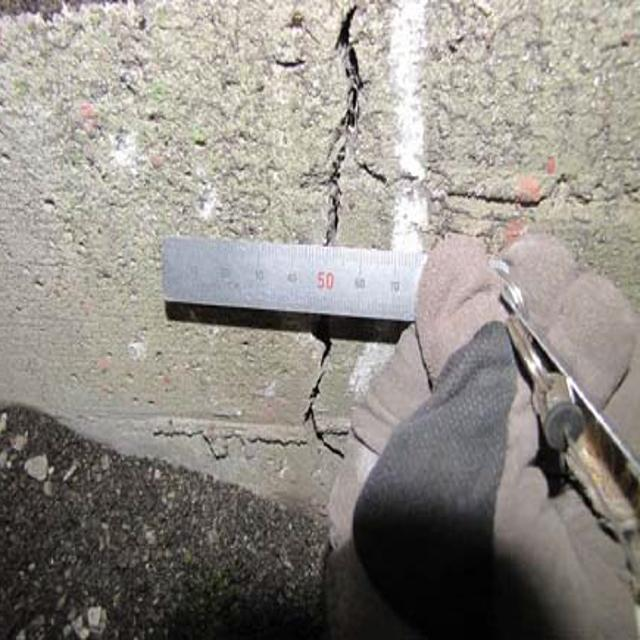crack: (300, 14, 371, 244), (287, 327, 344, 477)
